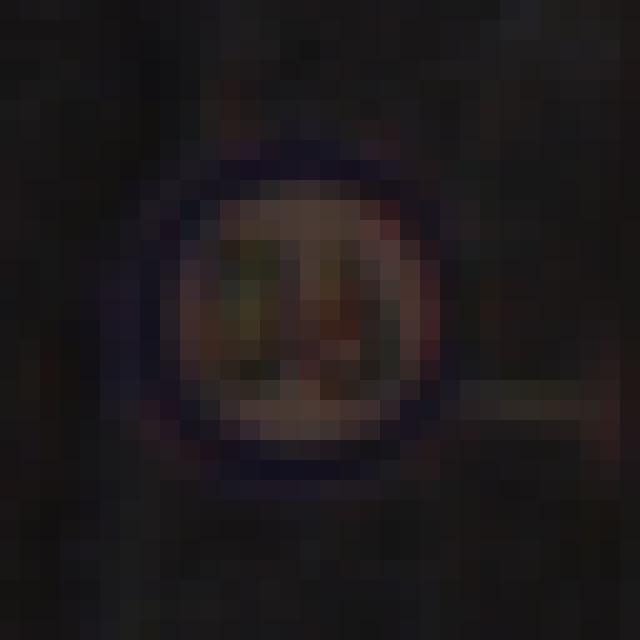SPEED-LIMIT-60: (116, 128, 480, 488)
